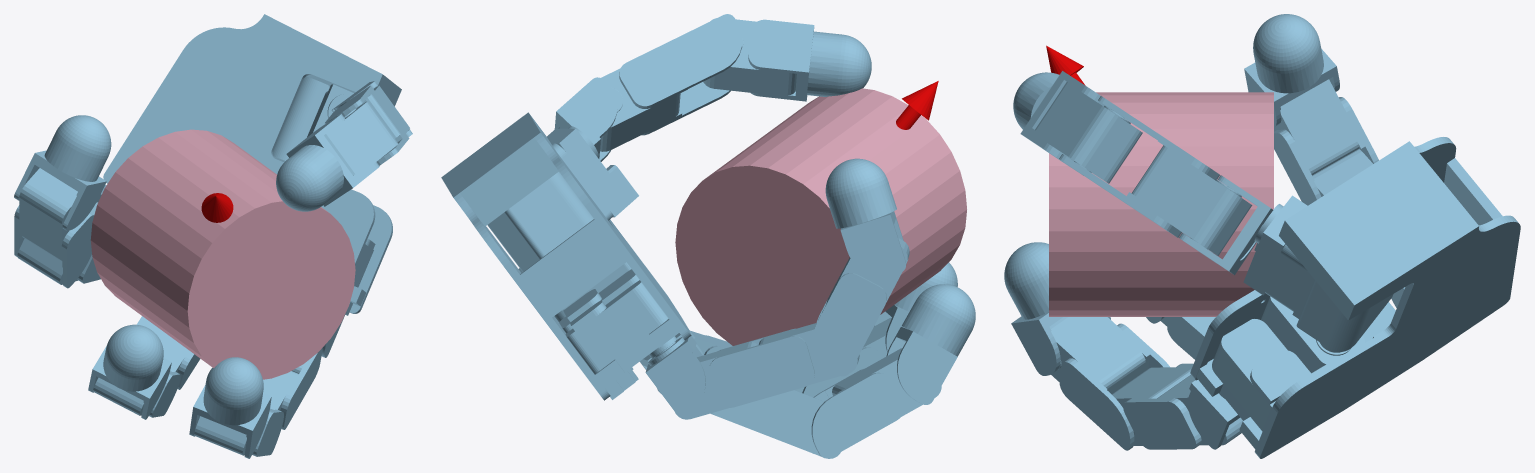
The picture shows the model from 3 angles, left to right: view 1: azimuth 30°, elevation 25°; view 2: azimuth 150°, elevation 25°; view 3: azimuth 270°, elevation 25°; orthographic projection. The views are drawn at different scales.
Parts seen in each view (by area): view 1: world, cylinder_medium.stl; view 2: world, cylinder_medium.stl; view 3: world, cylinder_medium.stl.
Part boxes in pixels (x1,y1,x2,y2): world: (14, 14, 412, 458); cylinder_medium.stl: (90, 129, 355, 379); world: (441, 14, 975, 458); cylinder_medium.stl: (675, 88, 966, 345); world: (1004, 14, 1520, 458); cylinder_medium.stl: (1049, 92, 1273, 316).
Bounding box in the file's own units: 0.1929 × 0.156 × 0.1836.
